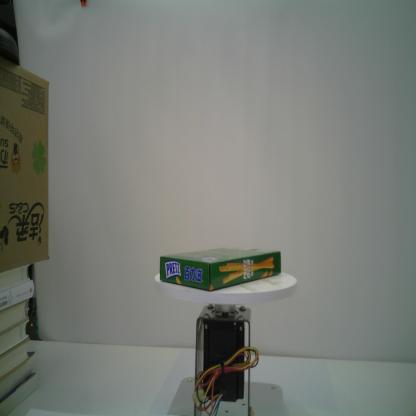Dessert: (159, 245, 283, 293)
